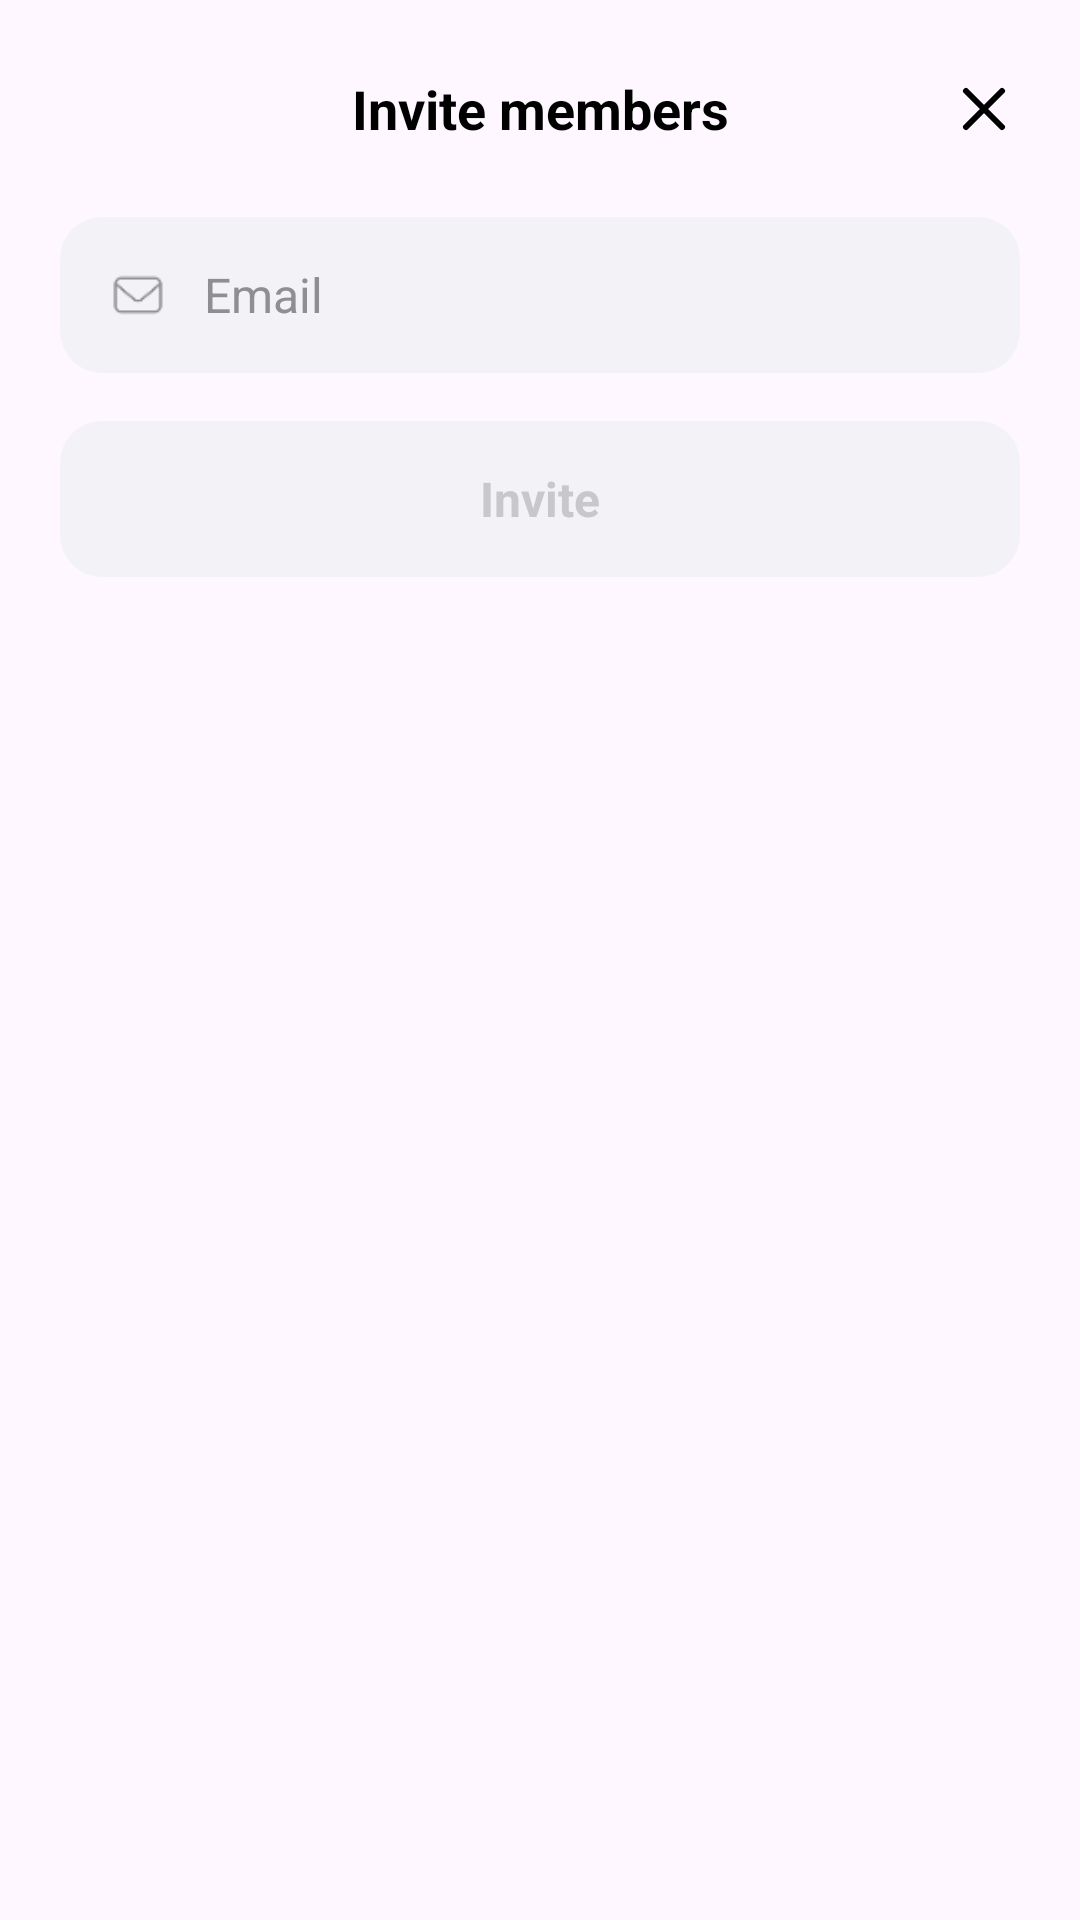

Point at icon controls on the screen. Image size 1080*1920, points as (x,y).
close: (984,109)
